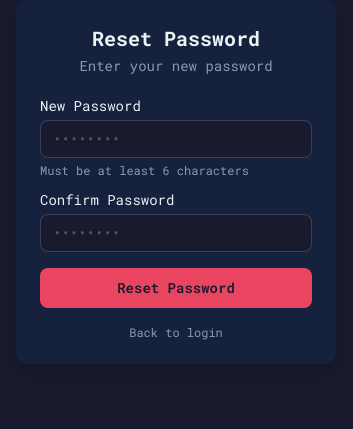
Test case: ResetPassword Page › Submit Flow › shows error message on failure
The width and height of the screenshot is (353, 429).
Type "weak" into the password field labelled "New Password".
click(176, 139); type("weak")  # box [40,120,312,158]
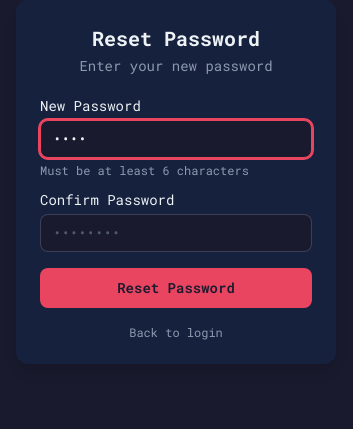
Type "weak" into the password field labelled "Confirm Password".
click(176, 233); type("weak")  # box [40,214,312,252]
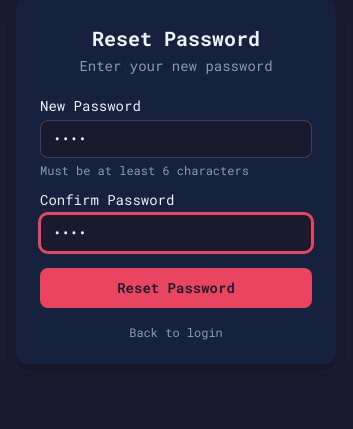
Click the button "Reset Password".
click(176, 288)  # box [40,268,312,308]
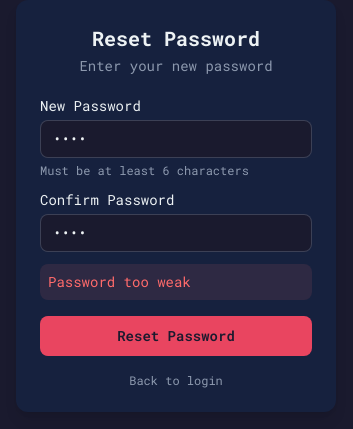
Expected: the text "Password too weak" is shown, [40,264,312,300]
